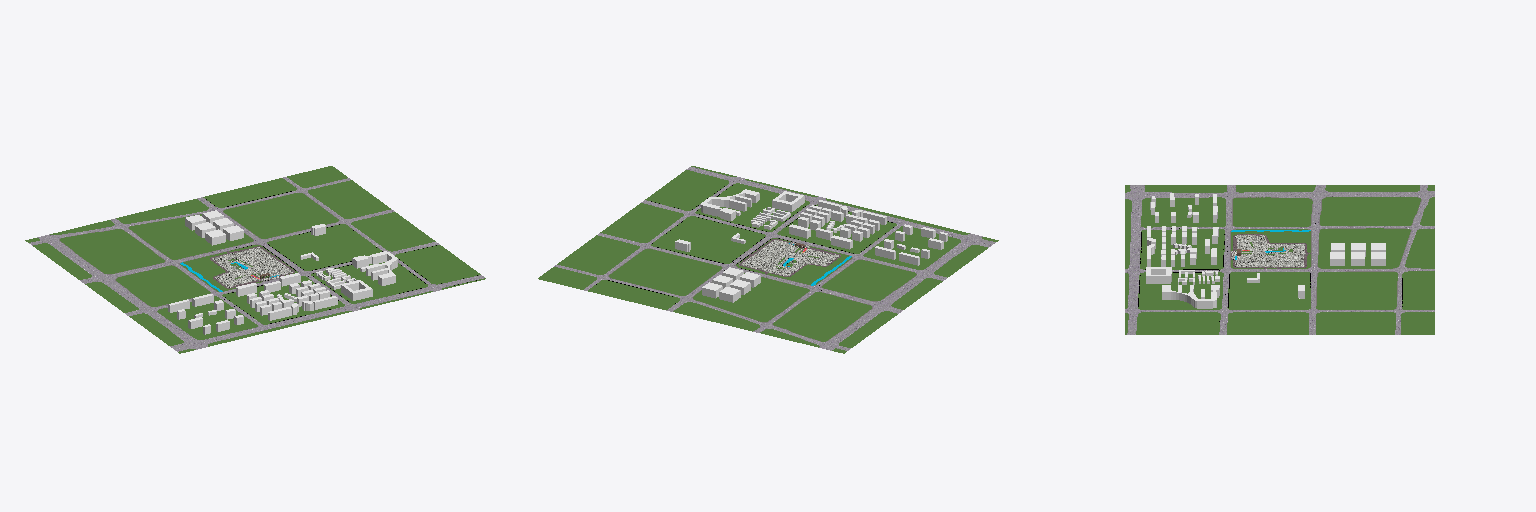
3 views of the same model, side by side, from view 1: azimuth 30°, elevation 25°; view 2: azimuth 150°, elevation 25°; view 3: azimuth 270°, elevation 25° (orthographic).
Parts seen in each view (by area): view 1: Mesh134, Mesh04, Mesh124, Mesh46; view 2: Mesh134, Mesh04, Mesh124, Mesh46; view 3: Mesh134, Mesh04, Mesh46, Mesh124.
Part boxes in pixels (x1,y1,x2,y2): Mesh134: (25, 166, 485, 353); Mesh04: (212, 247, 292, 287); Mesh124: (352, 251, 397, 285); Mesh46: (180, 252, 261, 291); Mesh134: (538, 166, 998, 353); Mesh04: (741, 240, 838, 275); Mesh124: (701, 189, 759, 220); Mesh46: (767, 246, 851, 285); Mesh134: (1125, 185, 1434, 334); Mesh04: (1235, 235, 1305, 266); Mesh46: (1231, 229, 1310, 252); Mesh124: (1162, 285, 1219, 308).
Bounding box in the file's own units: 41867 × 1008 × 36588.
Materials: 16 (5 with a texture image).